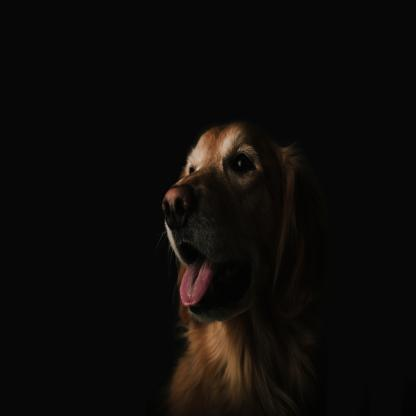Labarador Retriever: (162, 129, 334, 411)
